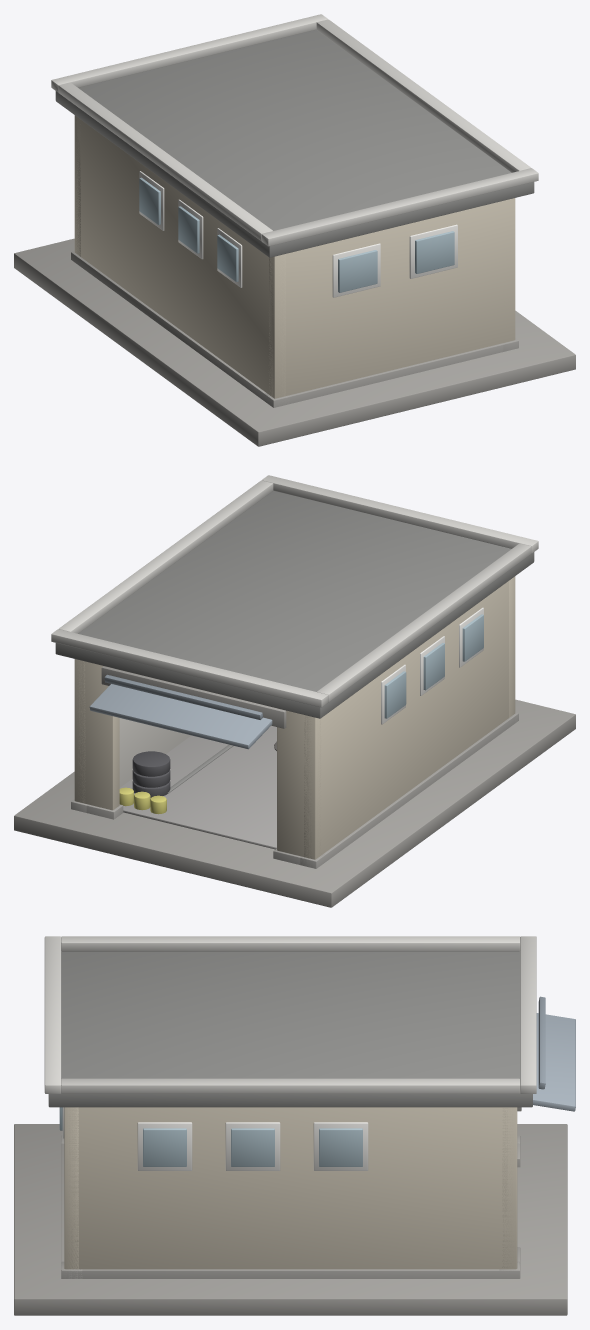
Rendered from th22_garage.glb.
The picture shows the model from 3 angles, top to bottom: view 1: azimuth 30°, elevation 25°; view 2: azimuth 150°, elevation 25°; view 3: azimuth 270°, elevation 25°; orthographic projection. The views are drawn at different scales.
Parts seen in each view (by area): view 1: Cube.036, Cube.009, Cube.010, Cube, Cube.037, Cube.039, Cube.040, Cube.038, Cube.015, Cube.016, Cube.033, Cube.035 (+6 smaller); view 2: Cube.036, Cube, Cube.010, Cube.002, Cube.006, Cube.007, Cube.045, Cube.038, Cube.039, Cube.040, Cube.037, Cube.016 (+9 smaller); view 3: Cube.036, Cube.012, Cube, Cube.039, Cube.040, Cube.018, Cube.045, Cube.037, Cube.038, Cube.009, Cube.021, Cube.023 (+7 smaller).
Boxes of the visible parts, x1,y1,x2,y2 form: Cube.036: (55, 29, 534, 257); Cube.009: (268, 198, 515, 398); Cube.010: (74, 115, 285, 398); Cube: (14, 238, 575, 446); Cube.037: (261, 168, 538, 246); Cube.039: (58, 82, 272, 241); Cube.040: (316, 19, 530, 172); Cube.038: (51, 14, 328, 92); Cube.015: (265, 338, 518, 407); Cube.016: (71, 251, 289, 407); Cube.033: (338, 250, 377, 292); Cube.035: (415, 231, 454, 273); Cube.036: (55, 490, 534, 718); Cube: (14, 699, 575, 907); Cube.010: (304, 579, 515, 858); Cube.002: (119, 725, 276, 849); Cube.006: (277, 708, 321, 859); Cube.007: (74, 659, 119, 810); Cube.045: (89, 684, 272, 749); Cube.038: (51, 629, 328, 707); Cube.039: (317, 543, 531, 702); Cube.040: (59, 480, 273, 633); Cube.037: (261, 475, 538, 553); Cube.016: (300, 713, 518, 868); Cube.036: (48, 951, 532, 1107); Cube.012: (65, 1107, 517, 1269); Cube: (14, 1124, 567, 1315); Cube.039: (61, 936, 520, 951); Cube.040: (61, 1078, 520, 1093); Cube.018: (61, 1261, 520, 1278); Cube.045: (533, 1013, 575, 1111); Cube.037: (44, 936, 61, 1093); Cube.038: (520, 936, 536, 1093); Cube.009: (64, 1107, 78, 1269); Cube.021: (143, 1128, 186, 1166); Cube.023: (231, 1128, 274, 1166).
Bounding box in the file's own units: 6.6 × 3.82 × 8.93.
